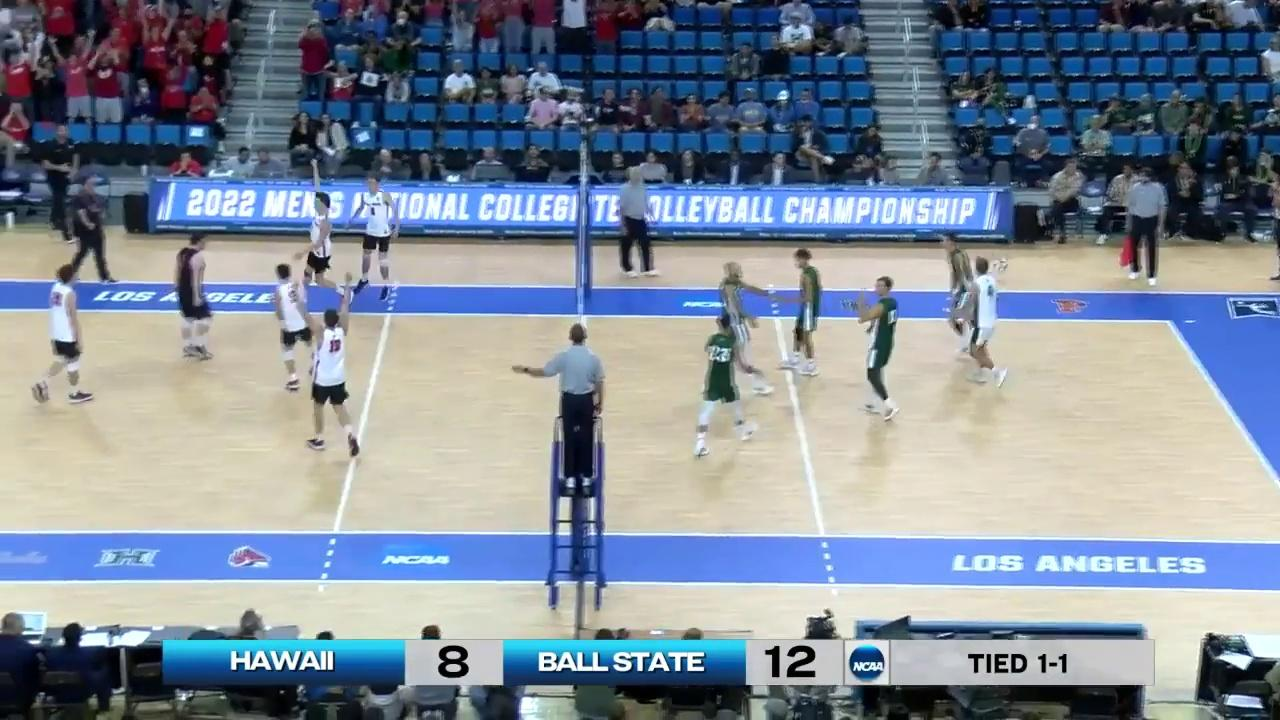player: (693, 317, 762, 457), (302, 311, 361, 457), (709, 262, 772, 397), (36, 267, 90, 403), (856, 274, 903, 421), (289, 194, 348, 304), (937, 231, 986, 363), (962, 256, 1009, 388), (272, 261, 317, 395), (354, 178, 396, 301), (781, 248, 821, 376), (172, 231, 211, 358)
refree: (549, 324, 605, 498), (1118, 169, 1167, 282), (617, 166, 663, 278)
